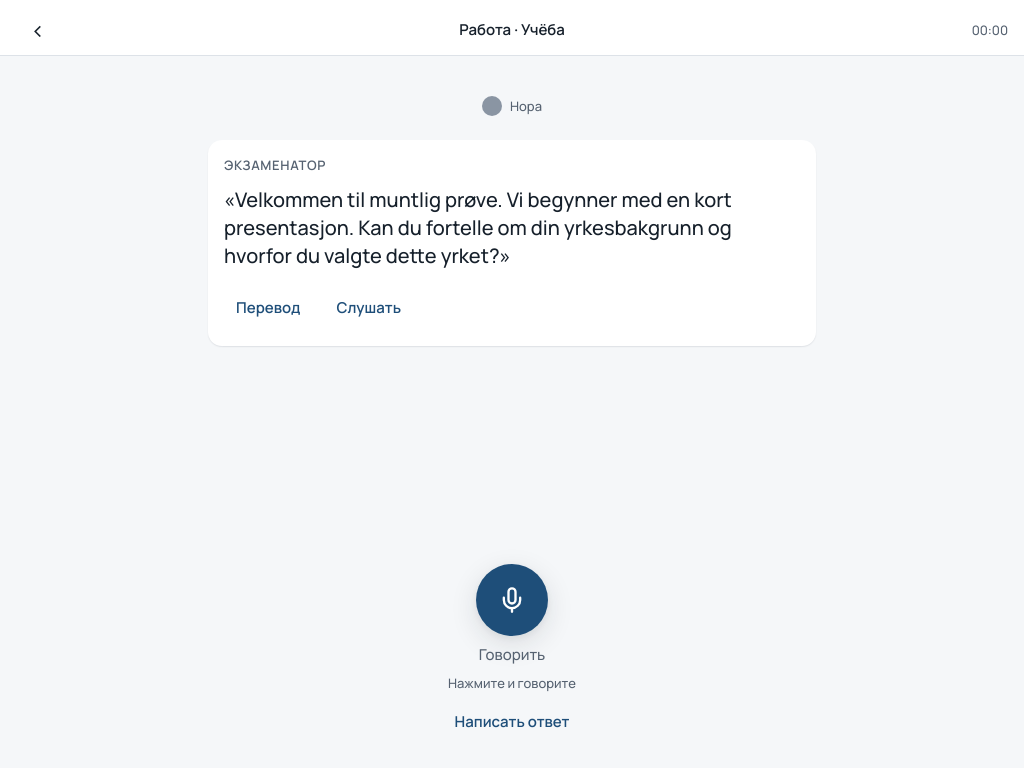
Test case: PracticeScreen (/practice, Issue #53) › 3. All controls have touch targets >= 44 px and exactly one filled button visible at a time
The image size is (1024, 768).
Note: Click «Написать ответ» to reveal textarea and «Отправить» button
Click the button "Написать ответ" at (512, 722), box [442,700,581,744]
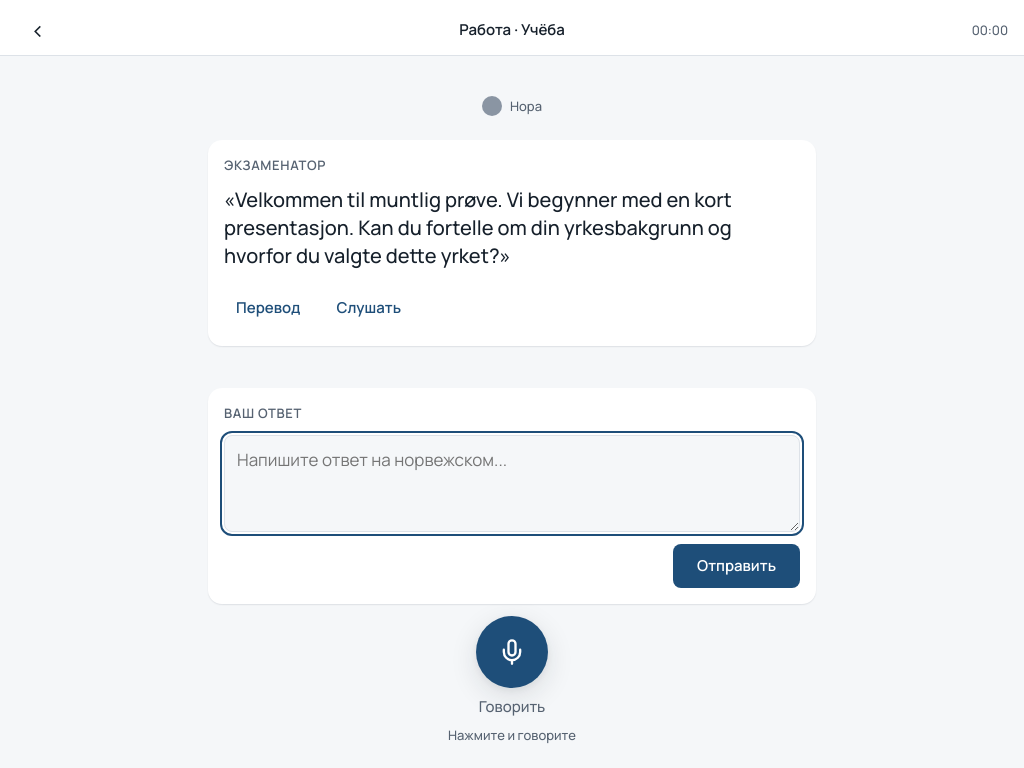
Expected: the button "Отправить" is shown, [673,544,800,588]
